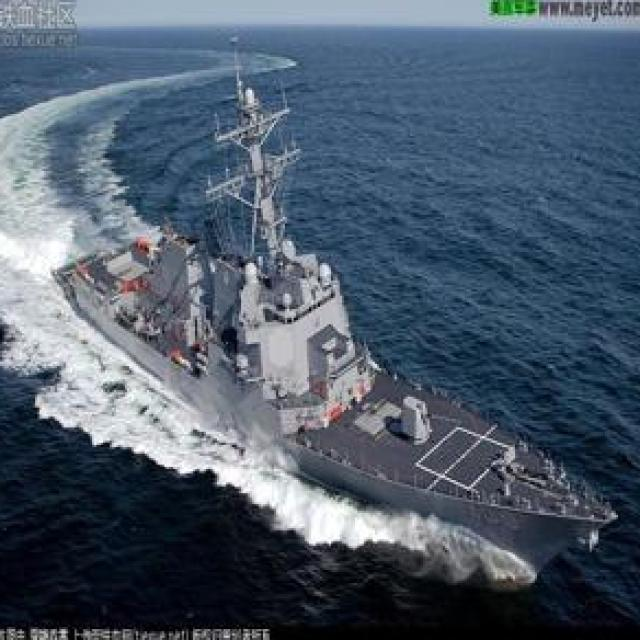navalvessels: (54, 120, 578, 543)
